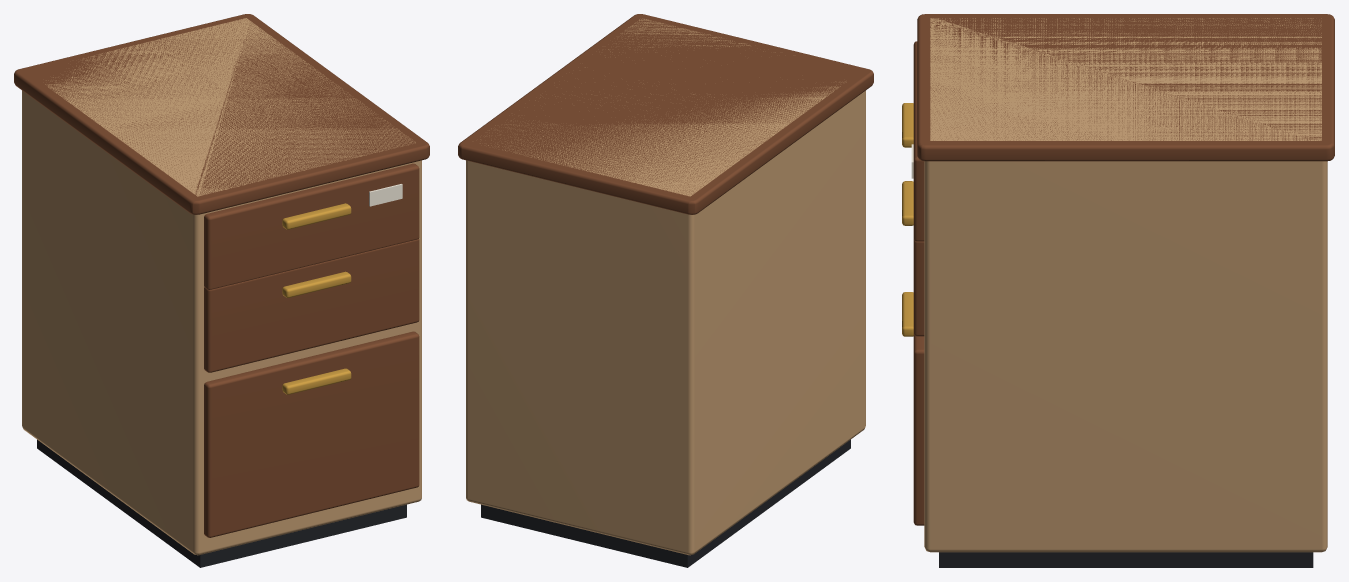
The model's file is RmDrawerUnit.fbx.
3 renders of one model, left to right at view 1: azimuth 30°, elevation 25°; view 2: azimuth 150°, elevation 25°; view 3: azimuth 270°, elevation 25°, orthographic. The views are drawn at different scales.
Parts seen in each view (by area): view 1: RmDrawerUnitBody, Drawer; view 2: RmDrawerUnitBody; view 3: RmDrawerUnitBody, Drawer.
Boxes of the visible parts, bbox=[...] form: RmDrawerUnitBody: bbox=[14, 14, 429, 567]; Drawer: bbox=[204, 163, 419, 289]; RmDrawerUnitBody: bbox=[458, 14, 873, 567]; RmDrawerUnitBody: bbox=[902, 14, 1334, 567]; Drawer: bbox=[902, 41, 924, 241].
Bounding box in the file's own units: 0.44 × 0.66 × 0.601.
